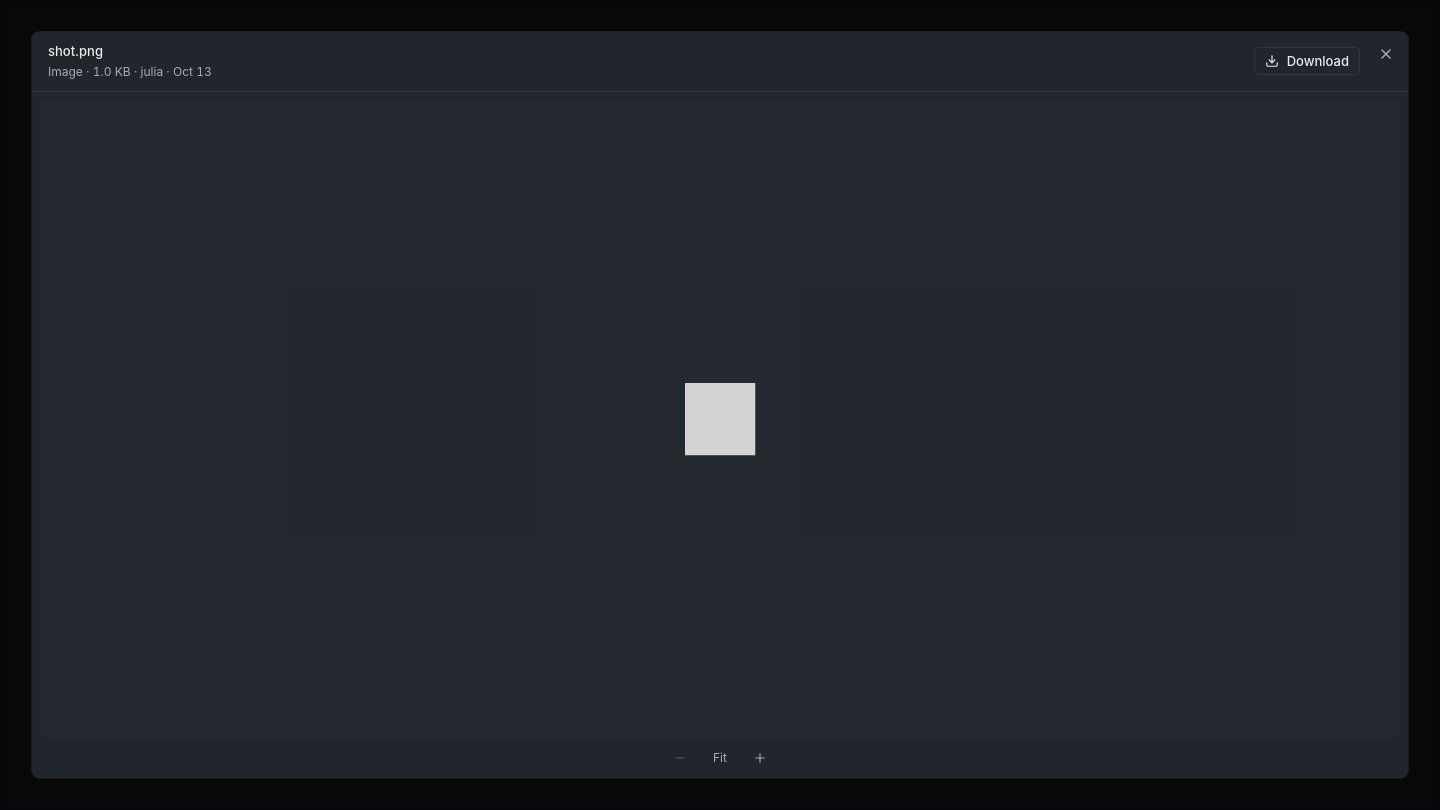
the preview's right-click menu › copies the image, and says so
Right-click the element with test id "zoom-frame" at coordinates (720, 419), box [40, 100, 1400, 738]
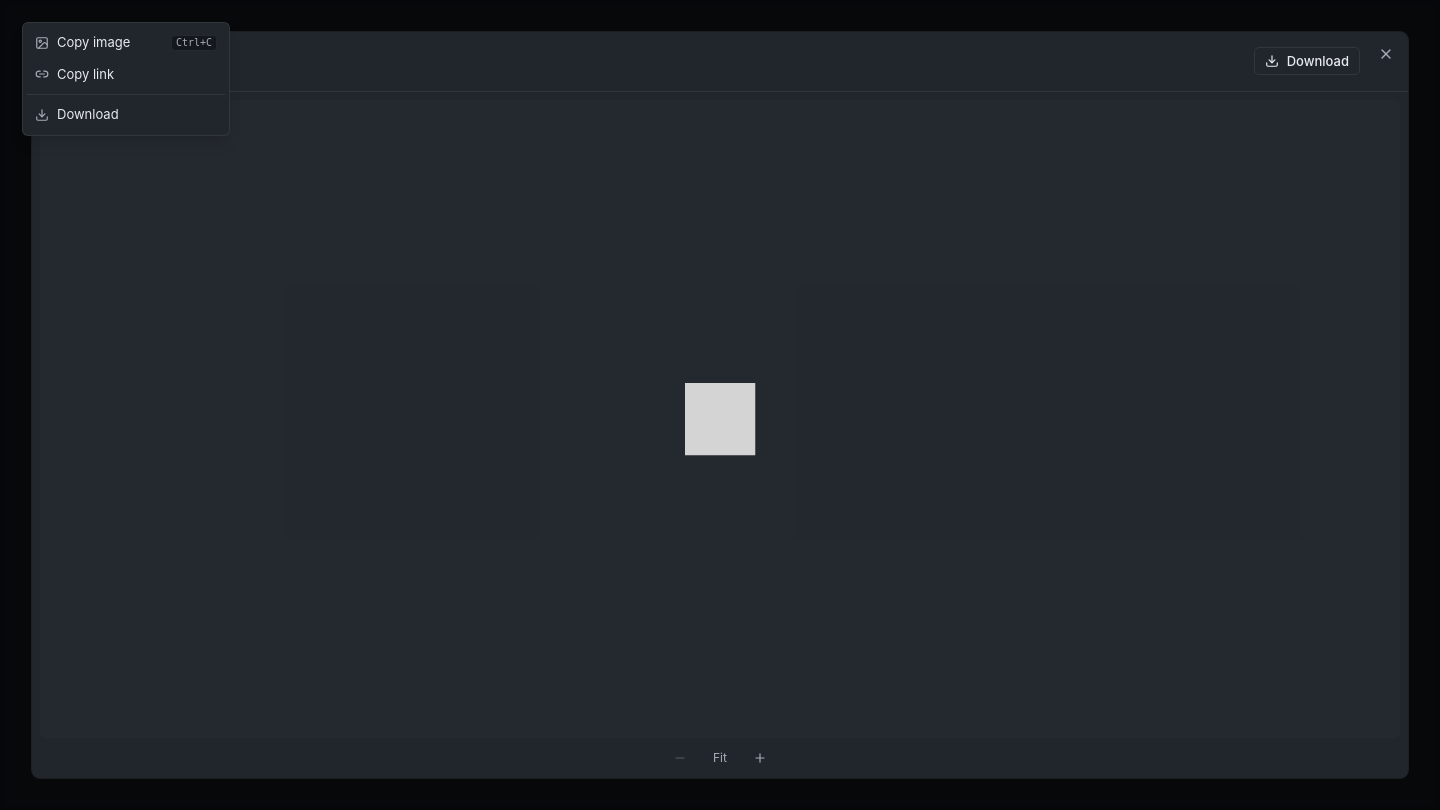
Click the text "Copy image" at coordinates (94, 42), box [57, 34, 130, 50]
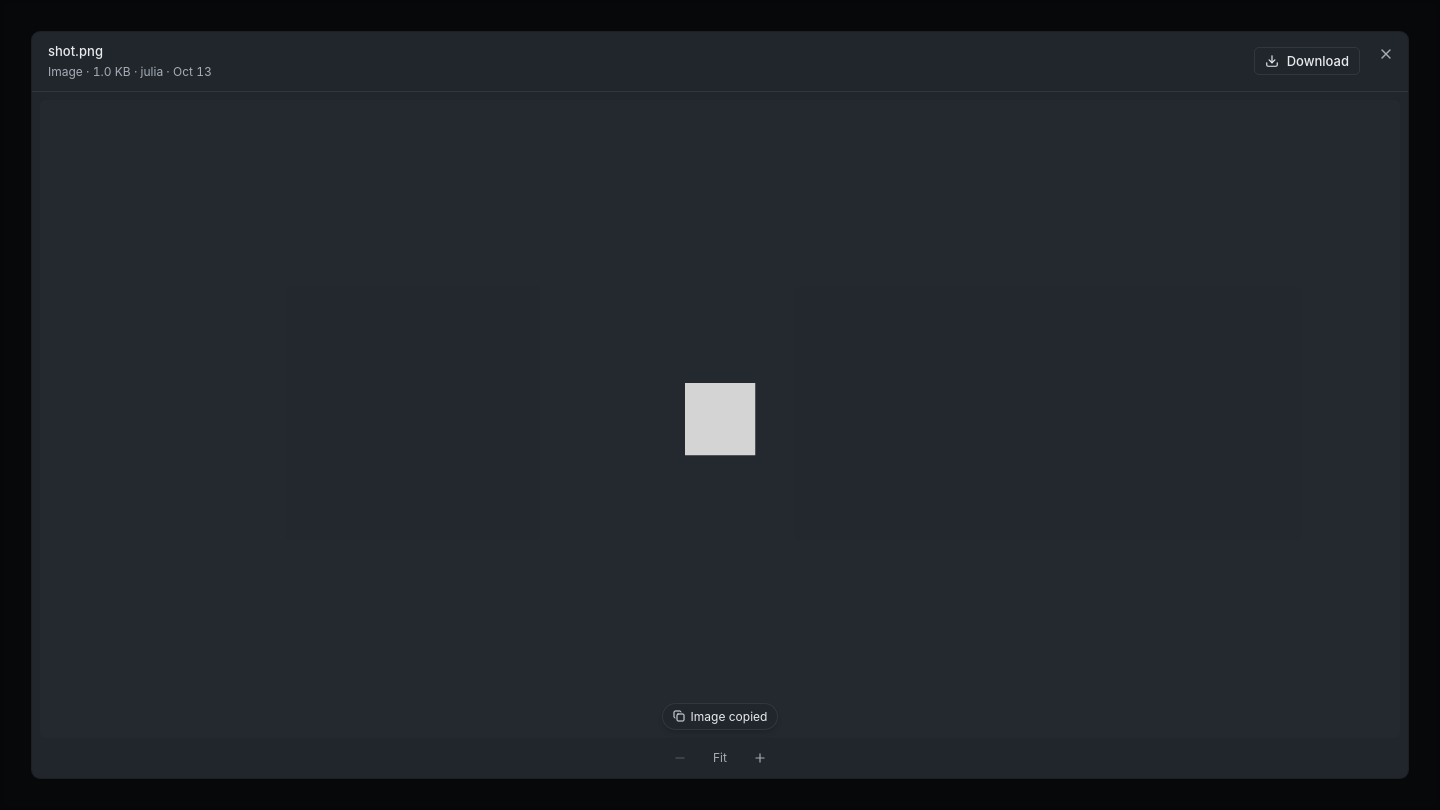
Expected: the text "Image copied" is shown, [662, 703, 778, 730]
